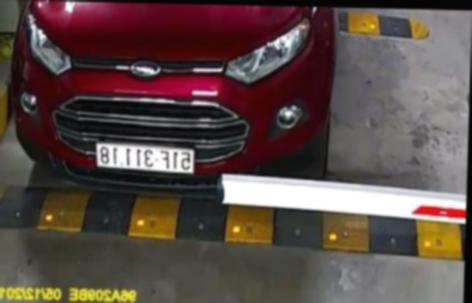License_Plate: (93, 139, 199, 176)
